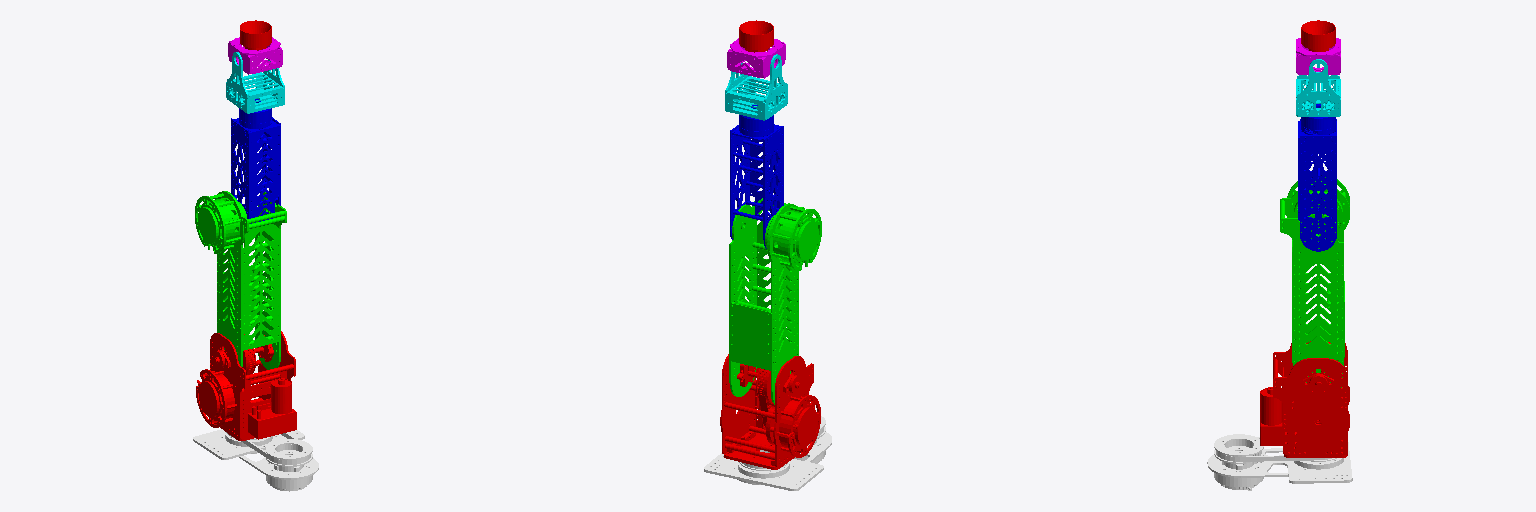
URDF robot description (rm_arm_2025_last):
<?xml version="1.0" encoding="utf-8"?>
<!-- This URDF was automatically created by SolidWorks to URDF Exporter! Originally created by [author] ([email redacted]) 
     Commit Version: 1.6.0-4-g7f85cfe  Build Version: 1.6.7995.38578
     For more information, please see http://wiki.ros.org/sw_urdf_exporter -->
<robot
  name="rm_arm_2025_last">
  <link
    name="base_link">
    <inertial>
      <origin
        xyz="0.0035834 -0.072814 0.0041856"
        rpy="0 0 0" />
      <mass
        value="0.99761" />
      <inertia
        ixx="0.0013793"
        ixy="8.959E-07"
        ixz="5.9742E-07"
        iyy="0.0013796"
        iyz="2.8092E-07"
        izz="0.0026738" />
    </inertial>
    <visual>
      <origin
        xyz="0 0 0"
        rpy="0 0 0" />
      <geometry>
        <mesh
          filename="package://rm_arm_2025_last/meshes/base_link.STL" />
      </geometry>
      <material
        name="">
        <color
          rgba="1 1 1 1" />
      </material>
    </visual>
    <collision>
      <origin
        xyz="0 0 0"
        rpy="0 0 0" />
      <geometry>
        <mesh
          filename="package://rm_arm_2025_last/meshes/base_link.STL" />
      </geometry>
    </collision>
  </link>
  <link
    name="link1">
    <inertial>
      <origin
        xyz="-0.015208 -0.015295 0.12731"
        rpy="0 0 0" />
      <mass
        value="2.0007" />
      <inertia
        ixx="0.0029003"
        ixy="5.5292E-07"
        ixz="-6.1317E-05"
        iyy="0.0024578"
        iyz="1.8535E-05"
        izz="0.0018243" />
    </inertial>
    <visual>
      <origin
        xyz="0 0 0"
        rpy="0 0 0" />
      <geometry>
        <mesh
          filename="package://rm_arm_2025_last/meshes/link1.STL" />
      </geometry>
      <material
        name="">
        <color
          rgba="1 0 0 1" />
      </material>
    </visual>
    <collision>
      <origin
        xyz="0 0 0"
        rpy="0 0 0" />
      <geometry>
        <mesh
          filename="package://rm_arm_2025_last/meshes/link1.STL" />
      </geometry>
    </collision>
  </link>
  <joint
    name="joint1"
    type="continuous">
    <origin
      xyz="0 0 0"
      rpy="0 0 0" />
    <parent
      link="base_link" />
    <child
      link="link1" />
    <axis
      xyz="0 0 1" />
  </joint>
  <link
    name="link2">
    <inertial>
      <origin
        xyz="-0.21501 -0.0038131 -0.014428"
        rpy="0 0 0" />
      <mass
        value="1.4127" />
      <inertia
        ixx="0.0010529"
        ixy="-0.00013101"
        ixz="3.6543E-06"
        iyy="0.0077031"
        iyz="4.2777E-12"
        izz="0.0082636" />
    </inertial>
    <visual>
      <origin
        xyz="0 0 0"
        rpy="0 0 0" />
      <geometry>
        <mesh
          filename="package://rm_arm_2025_last/meshes/link2.STL" />
      </geometry>
      <material
        name="">
        <color
          rgba="0 1 0 1" />
      </material>
    </visual>
    <collision>
      <origin
        xyz="0 0 0"
        rpy="0 0 0" />
      <geometry>
        <mesh
          filename="package://rm_arm_2025_last/meshes/link2.STL" />
      </geometry>
    </collision>
  </link>
  <joint
    name="joint2"
    type="revolute">
    <origin
      xyz="-0.0093356 9.7829E-05 0.192"
      rpy="0 1.5708 0" />
    <parent
      link="link1" />
    <child
      link="link2" />
    <axis
      xyz="0 0 1" />
    <limit
      lower="-2.4"
      upper="2.4"
      effort="0"
      velocity="0" />
  </joint>
  <link
    name="link3">
    <inertial>
      <origin
        xyz="-0.16282 -0.0049088 0.037734"
        rpy="0 0 0" />
      <mass
        value="0.55906" />
      <inertia
        ixx="0.00029574"
        ixy="-2.5319E-07"
        ixz="1.0267E-05"
        iyy="0.0011986"
        iyz="-4.4885E-07"
        izz="0.001216" />
    </inertial>
    <visual>
      <origin
        xyz="0 0 0"
        rpy="0 0 0" />
      <geometry>
        <mesh
          filename="package://rm_arm_2025_last/meshes/link3.STL" />
      </geometry>
      <material
        name="">
        <color
          rgba="0 0 1 1" />
      </material>
    </visual>
    <collision>
      <origin
        xyz="0 0 0"
        rpy="0 0 0" />
      <geometry>
        <mesh
          filename="package://rm_arm_2025_last/meshes/link3.STL" />
      </geometry>
    </collision>
  </link>
  <joint
    name="joint3"
    type="revolute">
    <origin
      xyz="-0.304 0 -0.013"
      rpy="0 0 0" />
    <parent
      link="link2" />
    <child
      link="link3" />
    <axis
      xyz="0 0 1" />
    <limit
      lower="-2.4"
      upper="2.4"
      effort="0"
      velocity="0" />
  </joint>
  <link
    name="link4">
    <inertial>
      <origin
        xyz="3.5192E-06 -0.00025709 -0.034104"
        rpy="0 0 0" />
      <mass
        value="0.14073" />
      <inertia
        ixx="0.00013606"
        ixy="1.0963E-08"
        ixz="1.4549E-09"
        iyy="0.00011896"
        iyz="1.0335E-20"
        izz="0.00010824" />
    </inertial>
    <visual>
      <origin
        xyz="0 0 0"
        rpy="0 0 0" />
      <geometry>
        <mesh
          filename="package://rm_arm_2025_last/meshes/link4.STL" />
      </geometry>
      <material
        name="">
        <color
          rgba="0 1 1 1" />
      </material>
    </visual>
    <collision>
      <origin
        xyz="0 0 0"
        rpy="0 0 0" />
      <geometry>
        <mesh
          filename="package://rm_arm_2025_last/meshes/link4.STL" />
      </geometry>
    </collision>
  </link>
  <joint
    name="joint4"
    type="continuous">
    <origin
      xyz="-0.245 0.00025301 0.038"
      rpy="0 1.5708 0" />
    <parent
      link="link3" />
    <child
      link="link4" />
    <axis
      xyz="0 0 1" />
  </joint>
  <link
    name="link5">
    <inertial>
      <origin
        xyz="0.0081122 9.9482E-06 -0.044819"
        rpy="0 0 0" />
      <mass
        value="0.08962" />
      <inertia
        ixx="8.2364E-05"
        ixy="-3.0394E-08"
        ixz="-4.11E-13"
        iyy="3.7485E-05"
        iyz="-3.9227E-09"
        izz="6.2222E-05" />
    </inertial>
    <visual>
      <origin
        xyz="0 0 0"
        rpy="0 0 0" />
      <geometry>
        <mesh
          filename="package://rm_arm_2025_last/meshes/link5.STL" />
      </geometry>
      <material
        name="">
        <color
          rgba="1 0 1 1" />
      </material>
    </visual>
    <collision>
      <origin
        xyz="0 0 0"
        rpy="0 0 0" />
      <geometry>
        <mesh
          filename="package://rm_arm_2025_last/meshes/link5.STL" />
      </geometry>
    </collision>
  </link>
  <joint
    name="joint5"
    type="revolute">
    <origin
      xyz="0.044825 -0.00025301 -0.105"
      rpy="0 1.5708 0" />
    <parent
      link="link4" />
    <child
      link="link5" />
    <axis
      xyz="0 0 1" />
    <limit
      lower="-1.74"
      upper="1.74"
      effort="0"
      velocity="0" />
  </joint>
  <link
    name="EE_link">
    <inertial>
      <origin
        xyz="6.9389E-17 -9.601E-17 0.0080547"
        rpy="0 0 0" />
      <mass
        value="0.061383" />
      <inertia
        ixx="2.4308E-05"
        ixy="-3.7153E-08"
        ixz="-2.6572E-22"
        iyy="2.4821E-05"
        iyz="-3.4048E-21"
        izz="3.6926E-05" />
    </inertial>
    <visual>
      <origin
        xyz="0 0 0"
        rpy="0 0 0" />
      <geometry>
        <mesh
          filename="package://rm_arm_2025_last/meshes/EE_link.STL" />
      </geometry>
      <material
        name="">
        <color
          rgba="1 0 0 1" />
      </material>
    </visual>
    <collision>
      <origin
        xyz="0 0 0"
        rpy="0 0 0" />
      <geometry>
        <mesh
          filename="package://rm_arm_2025_last/meshes/EE_link.STL" />
      </geometry>
    </collision>
  </link>
  <joint
    name="joint6"
    type="continuous">
    <origin
      xyz="0.03055 0 -0.044825"
      rpy="0 1.5708 0" />
    <parent
      link="link5" />
    <child
      link="EE_link" />
    <axis
      xyz="0 0 1" />
  </joint>
</robot>

--- Facts derived from the render (not from the file) ---
Views: 3 orthographic renders of the robot side by side, from view 1: azimuth 30°, elevation 25°; view 2: azimuth 150°, elevation 25°; view 3: azimuth 270°, elevation 25°.
Robot: rm_arm_2025_last — 7 links, 6 joints (3 revolute, 3 continuous); root link base_link; default pose: all joints at 0.
Visible links, largest first — view 1: link2, link1, link3, base_link, link4, link5, EE_link; view 2: link2, link1, link3, base_link, link4, link5, EE_link; view 3: link1, link2, link3, base_link, link4, link5, EE_link.
Boxes of the visible links, left/top/right/bottom form: link2: left=195, top=191, right=286, bottom=369; link1: left=196, top=331, right=296, bottom=440; link3: left=231, top=99, right=280, bottom=223; base_link: left=193, top=429, right=318, bottom=491; link4: left=226, top=52, right=284, bottom=113; link5: left=228, top=37, right=282, bottom=74; EE_link: left=240, top=20, right=271, bottom=50; link2: left=729, top=198, right=821, bottom=404; link1: left=720, top=354, right=820, bottom=469; link3: left=730, top=105, right=783, bottom=248; base_link: left=704, top=416, right=831, bottom=490; link4: left=725, top=54, right=787, bottom=120; link5: left=727, top=38, right=785, bottom=78; EE_link: left=739, top=20, right=773, bottom=52; link1: left=1260, top=341, right=1349, bottom=457; link2: left=1280, top=177, right=1349, bottom=387; link3: left=1298, top=104, right=1336, bottom=251; base_link: left=1207, top=434, right=1352, bottom=490; link4: left=1296, top=59, right=1340, bottom=116; link5: left=1296, top=38, right=1340, bottom=74; EE_link: left=1301, top=20, right=1335, bottom=51.
Bounding box of the posed robot: 0.2045 × 0.2739 × 0.9501 m (x, y, z).
7 mesh visuals loaded from 7 distinct referenced files (7 binary STL).